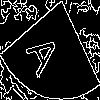A: (25, 25, 68, 79)
